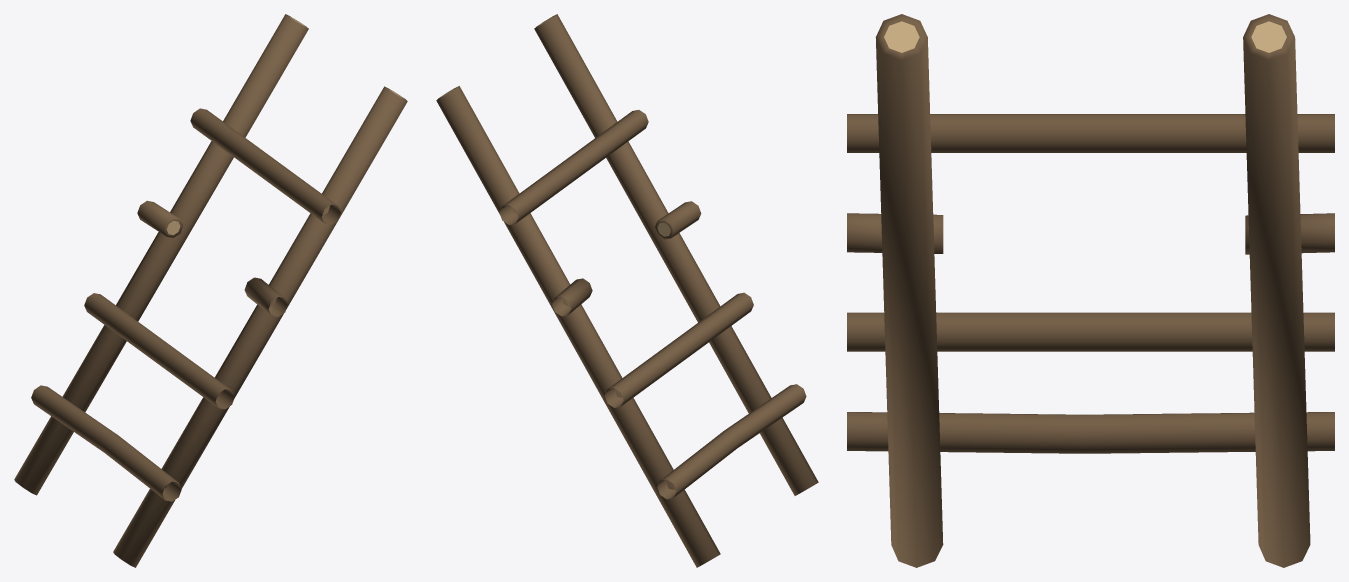
File: rpgpp_ag_roof_support_01_6x5x3_half_a_roof_01d.fbx
The picture shows the model from 3 angles, left to right: view 1: azimuth 30°, elevation 25°; view 2: azimuth 150°, elevation 25°; view 3: azimuth 270°, elevation 25°; orthographic projection. The views are drawn at different scales.
Parts seen in each view (by area): view 1: rpgpp_ag_roof_support_01_6x5x3_half_a_roof_01d; view 2: rpgpp_ag_roof_support_01_6x5x3_half_a_roof_01d; view 3: rpgpp_ag_roof_support_01_6x5x3_half_a_roof_01d.
Part boxes in pixels (x1=…): rpgpp_ag_roof_support_01_6x5x3_half_a_roof_01d: x1=14, y1=14, x2=407, y2=567; rpgpp_ag_roof_support_01_6x5x3_half_a_roof_01d: x1=436, y1=14, x2=818, y2=567; rpgpp_ag_roof_support_01_6x5x3_half_a_roof_01d: x1=847, y1=14, x2=1334, y2=567.
Bounding box in the file's own units: 3.78 × 5.29 × 3.
